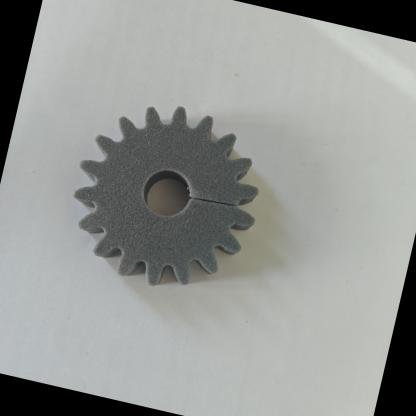defect: (154, 165, 286, 259)
gear: (37, 75, 315, 332)
